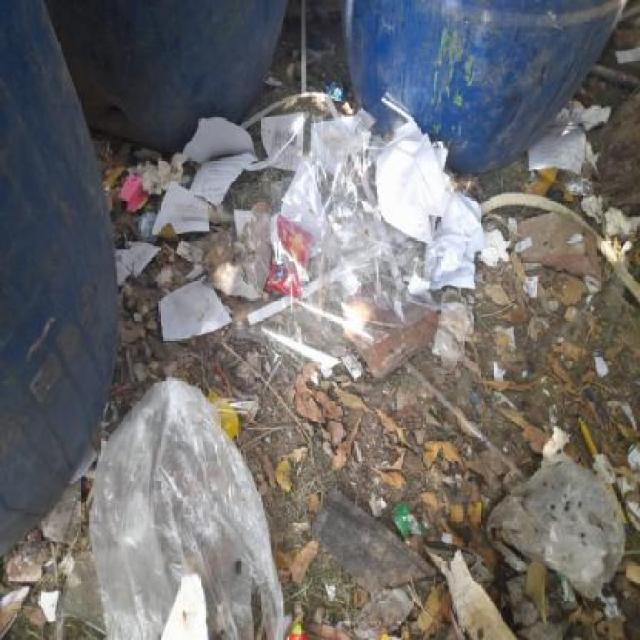garbage: (108, 91, 640, 410), (24, 396, 640, 639)
